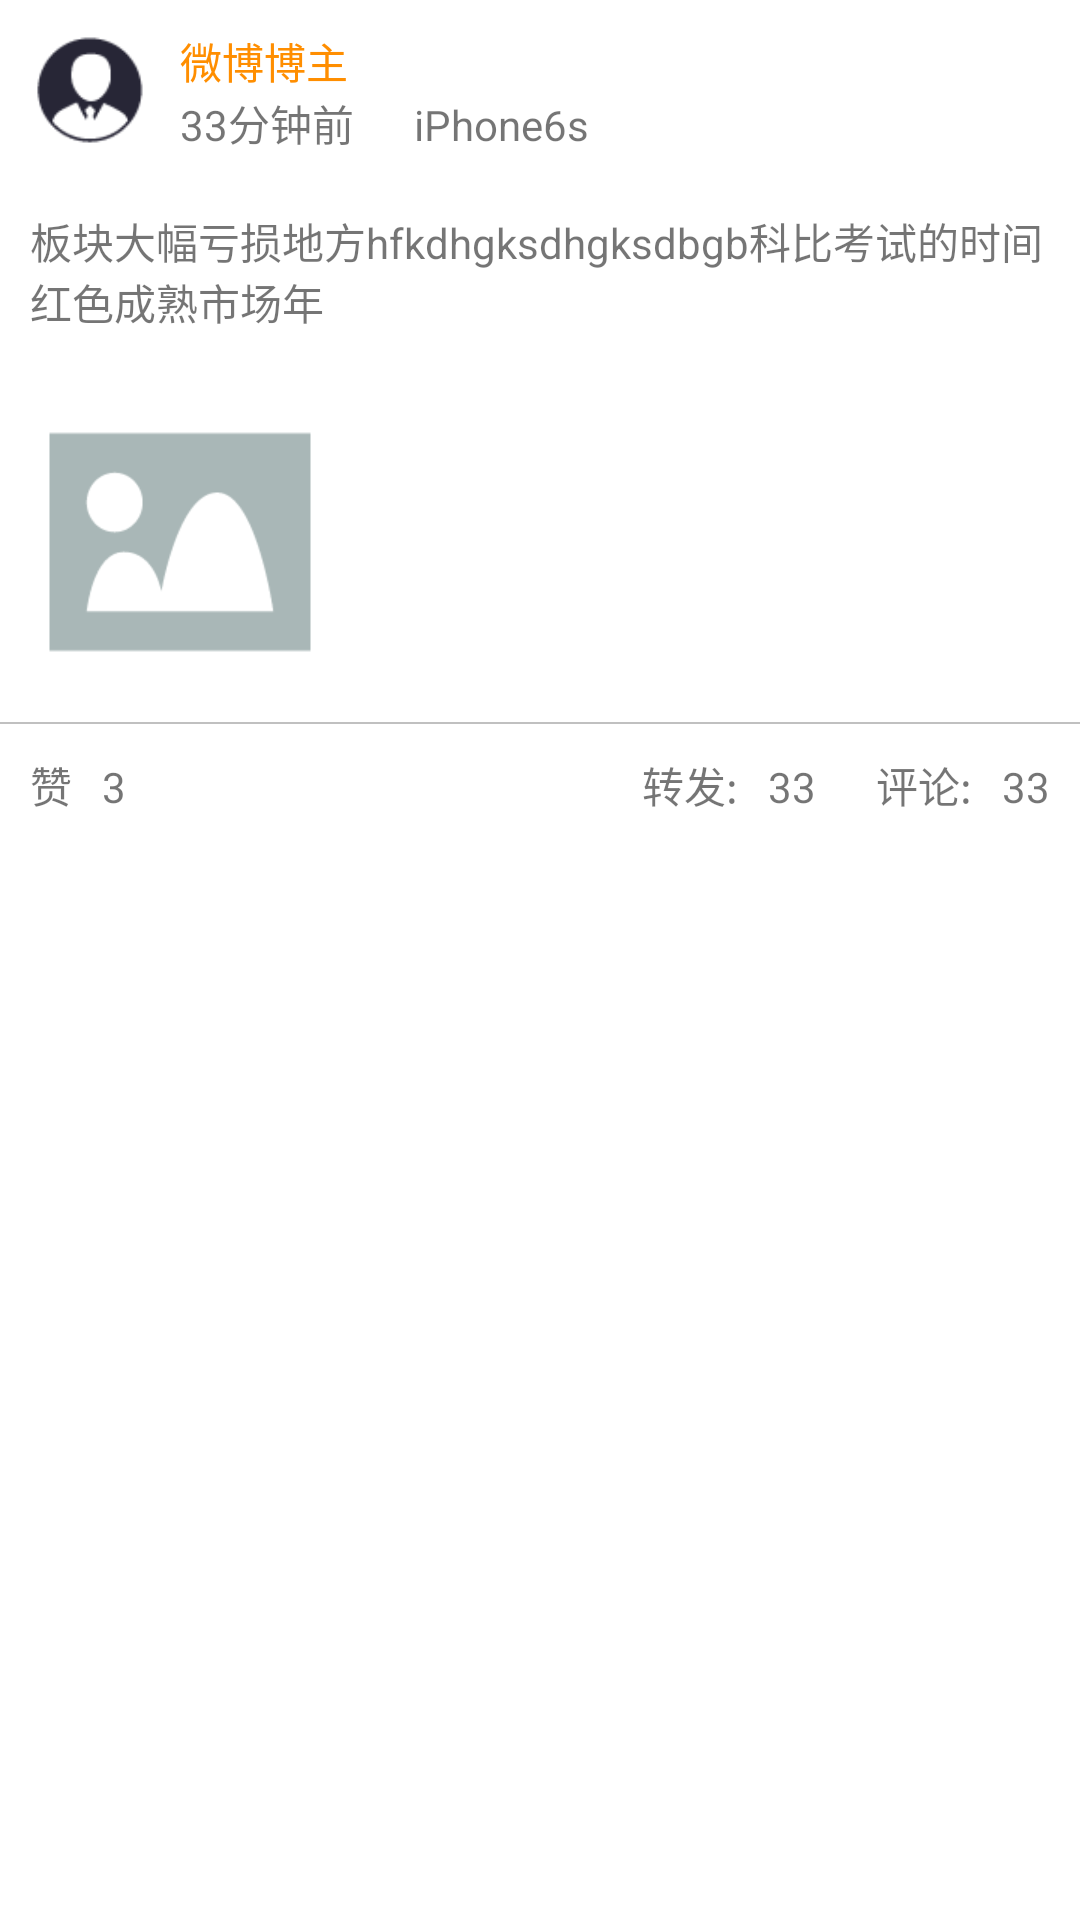

Screen size 1080px x 1920px. Icon name, then its box in pixels as (x1, y1, x2, y2):
head: (37, 37, 143, 143)
